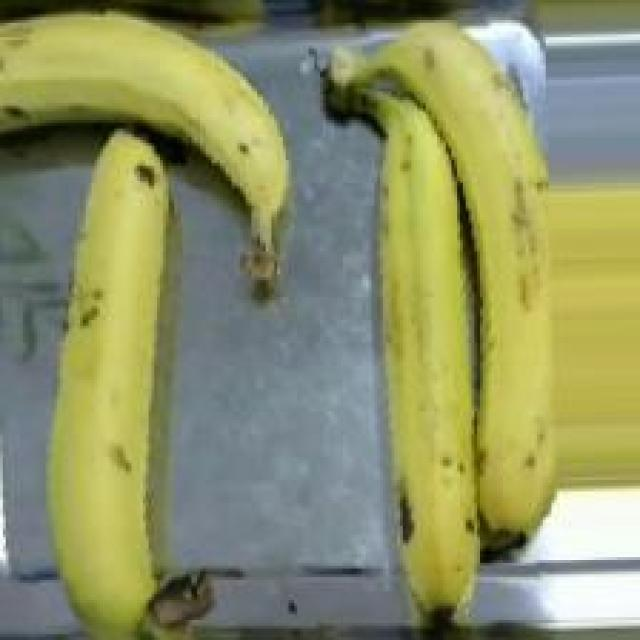banana: (9, 3, 572, 640)
